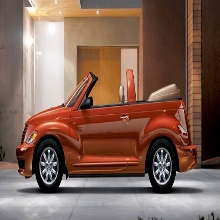no damage: (16, 70, 200, 192)
